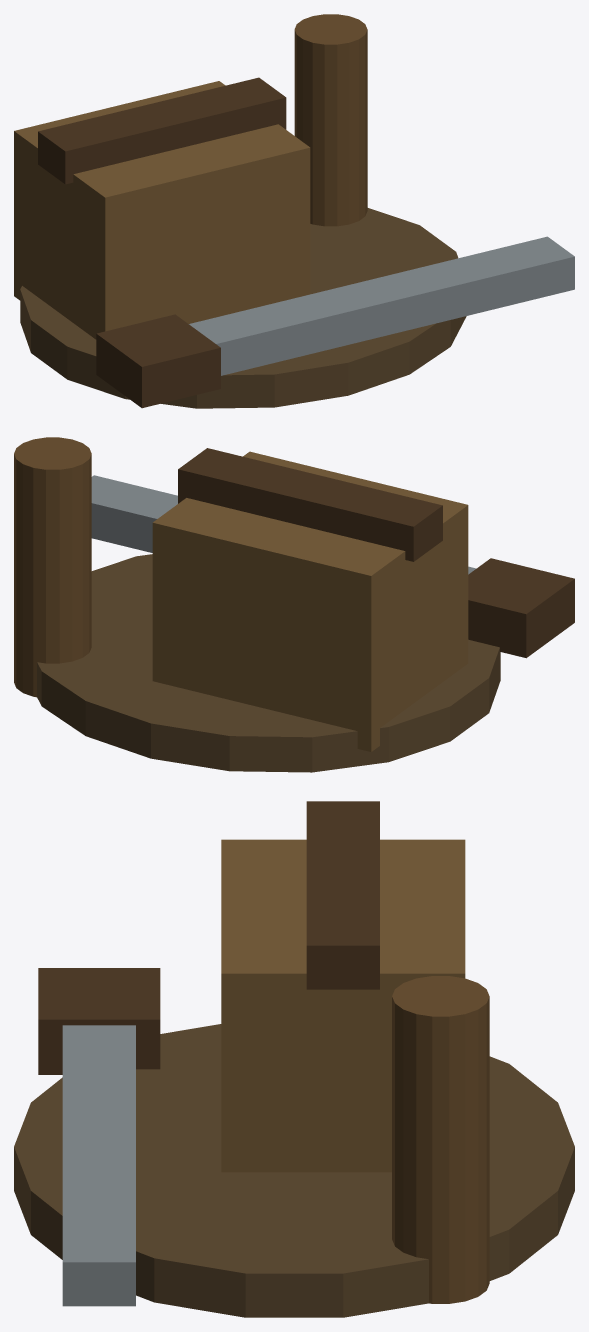
Rendered from gear-pile.9b449f7f.glb.
The picture shows the model from 3 angles, top to bottom: view 1: azimuth 30°, elevation 25°; view 2: azimuth 150°, elevation 25°; view 3: azimuth 270°, elevation 25°; orthographic projection. The views are drawn at different scales.
Visible parts, largest first — view 1: body; view 2: body; view 3: body.
Boxes of the visible parts, x1,y1,x2,y2 form: body: (14,14,574,408); body: (14,437,574,772); body: (14,801,574,1317).
Size of the model in its own units: 0.56 by 0.26 by 0.46.
